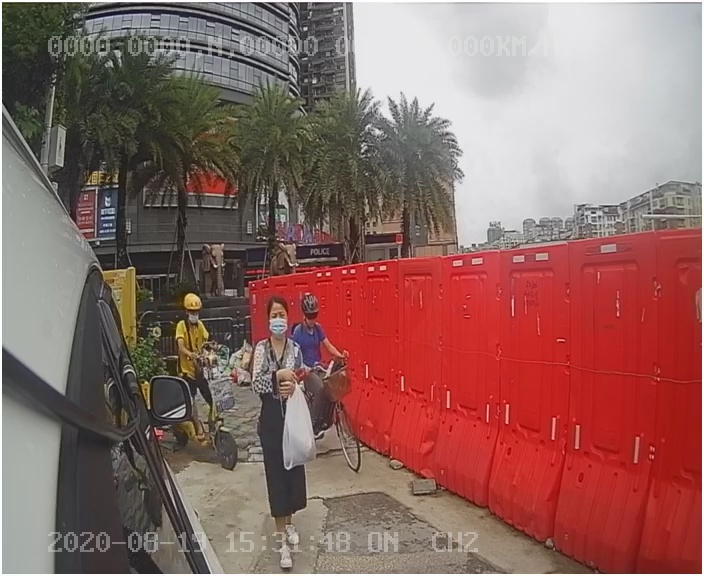person: (248, 296, 323, 532)
